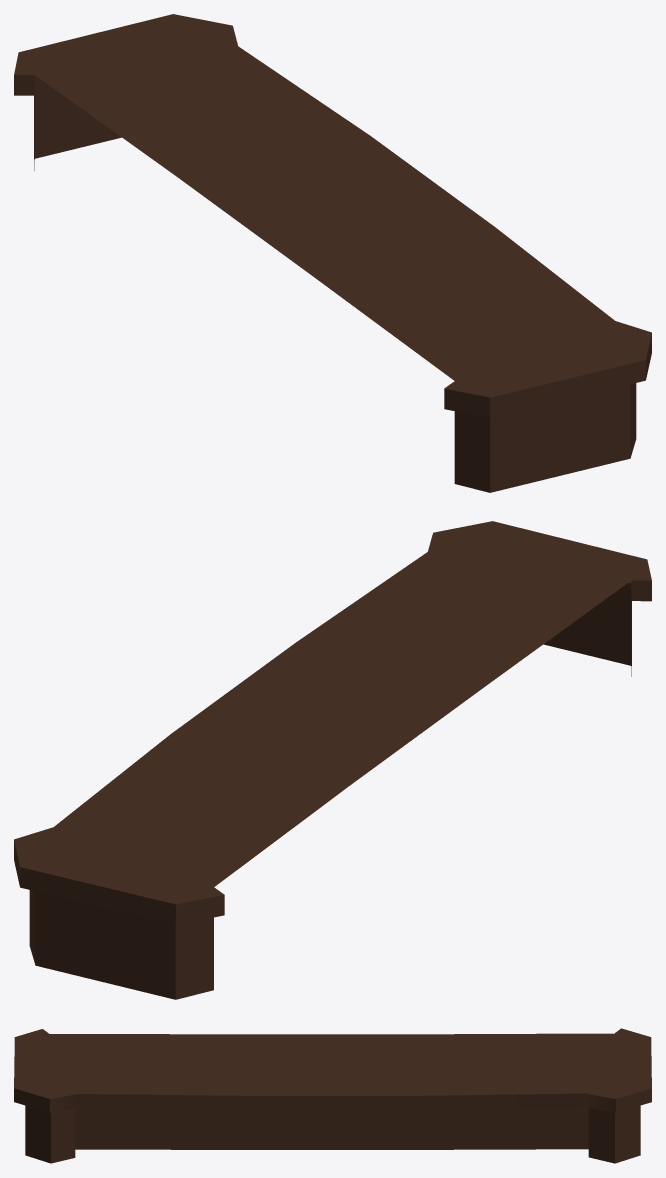
Rendered from computer_desk_low.fbx.
3 renders of one model, top to bottom at view 1: azimuth 30°, elevation 25°; view 2: azimuth 150°, elevation 25°; view 3: azimuth 270°, elevation 25°, orthographic. The views are drawn at different scales.
Parts seen in each view (by area): view 1: computer_desk; view 2: computer_desk; view 3: computer_desk.
Boxes of the visible parts, x1,y1,x2,y2 form: computer_desk: (14,14,651,492); computer_desk: (14,521,651,999); computer_desk: (14,1028,651,1163).
Bounding box in the file's own units: 16.37 × 7.49 × 62.38.
